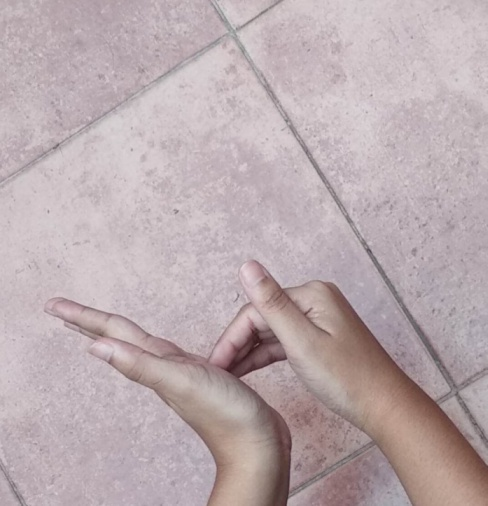ga: (38, 258, 408, 456)
